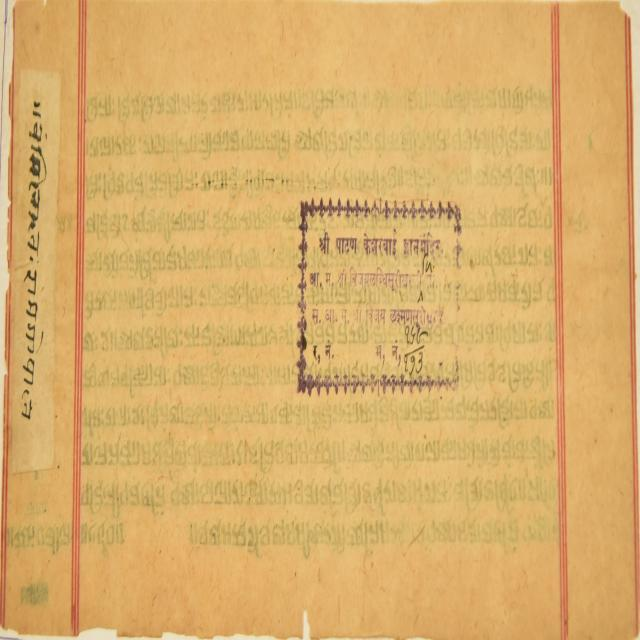text_paragraph: (0, 5, 636, 636)
